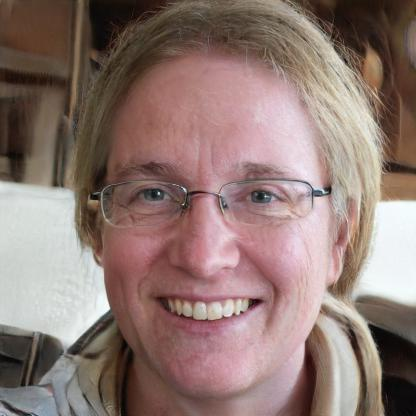glasses: (89, 172, 316, 229)
